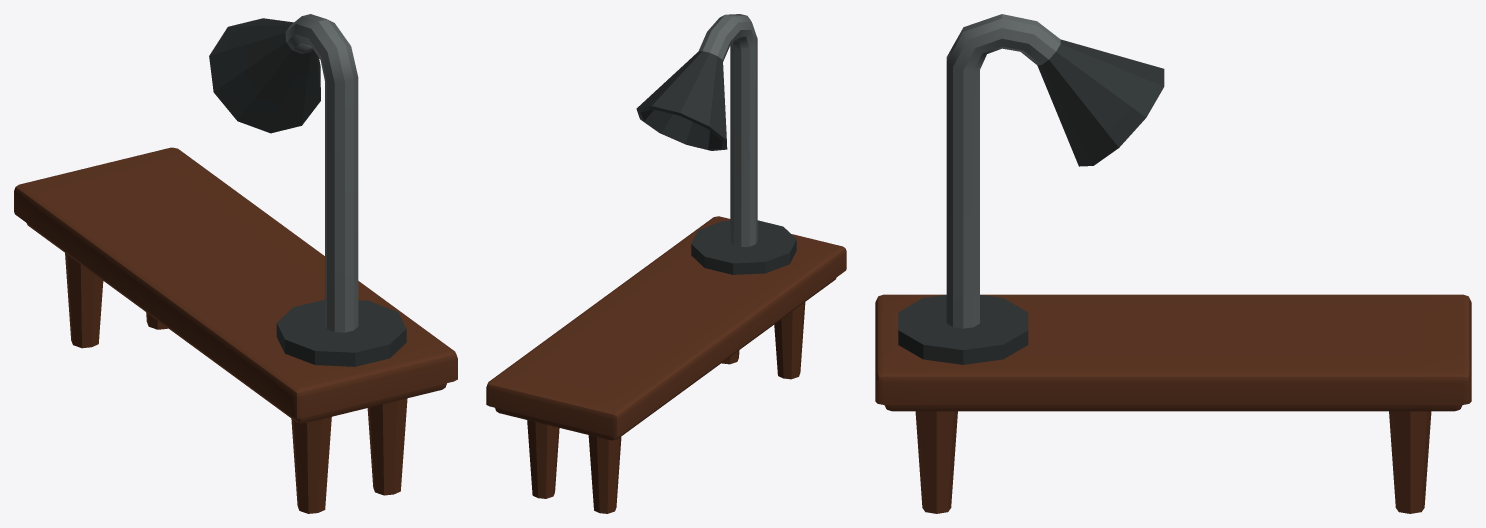
File: TABLE_SET_1.fbx
The picture shows the model from 3 angles, left to right: view 1: azimuth 30°, elevation 25°; view 2: azimuth 150°, elevation 25°; view 3: azimuth 270°, elevation 25°; orthographic projection. The views are drawn at different scales.
Parts seen in each view (by area): view 1: TABLE, LAMP; view 2: TABLE, LAMP; view 3: TABLE, LAMP.
Part boxes in pixels (x1,y1,x2,y2): TABLE: (14,147,457,513); LAMP: (209,14,406,366); TABLE: (486,216,846,513); LAMP: (636,14,796,274); TABLE: (875,294,1471,513); LAMP: (898,14,1164,364).
Bounding box in the file's own units: 35.95 × 94.51 × 108.
